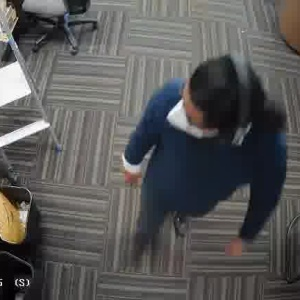person: (132, 64, 283, 252)
